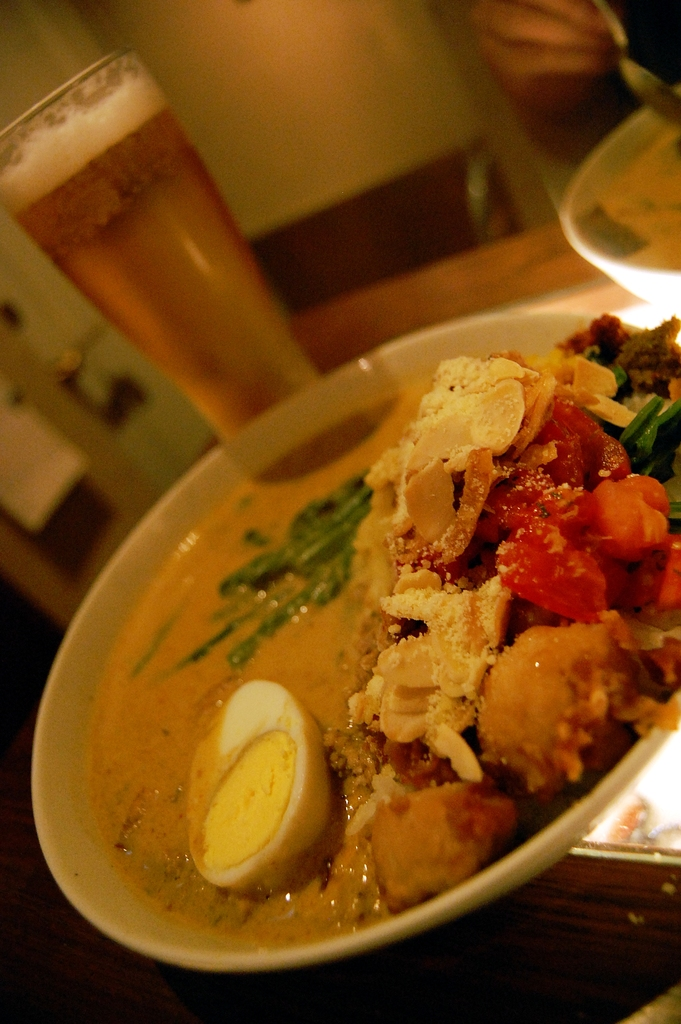Beer: (0, 48, 312, 435)
